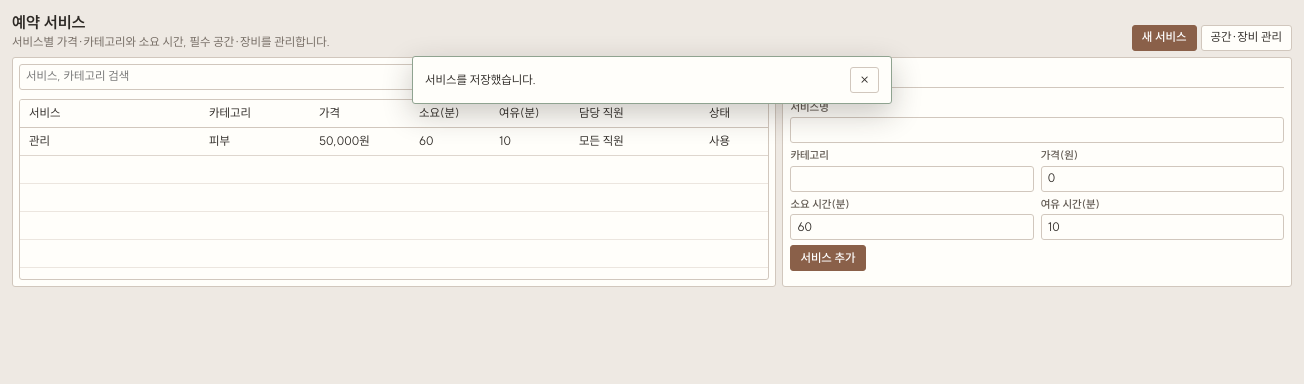
SVC-10 서비스 수정·비활성 › 잘못된 입력은 요청하지 않고 안내한다
The image size is (1304, 384).
Click the text "관리" at (110, 142), box [20, 128, 200, 156]
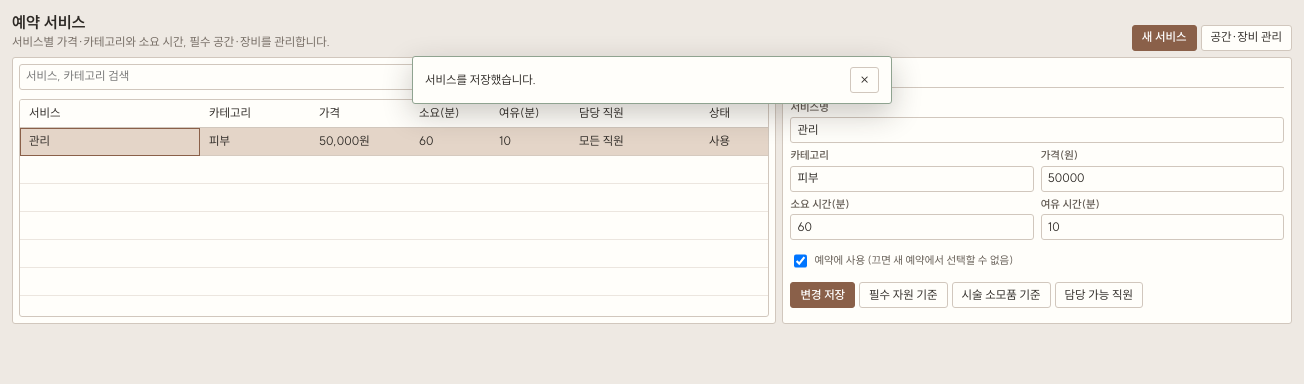
Replace the text in the field labelled "가격(원)" with "-5" at (1162, 179), box [1041, 166, 1284, 192]
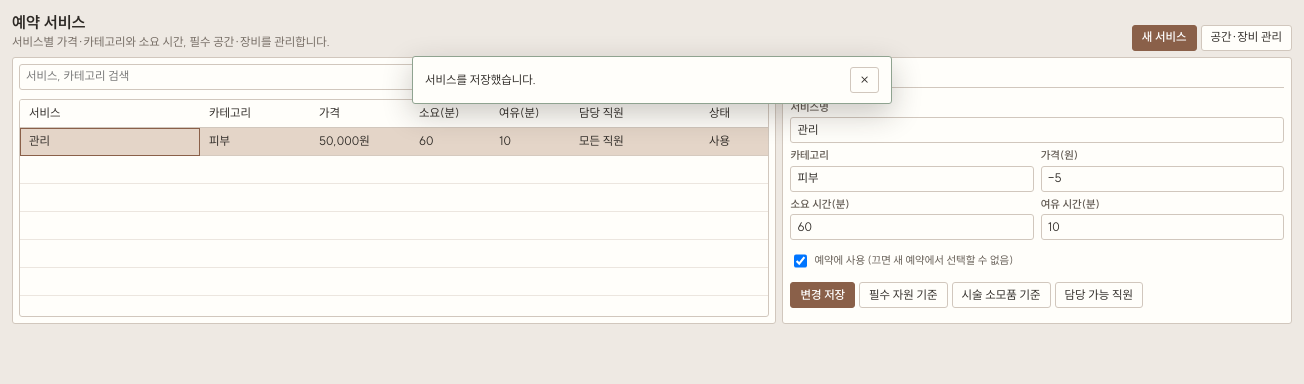
Click the button "변경 저장" at (823, 295), box [790, 282, 855, 308]
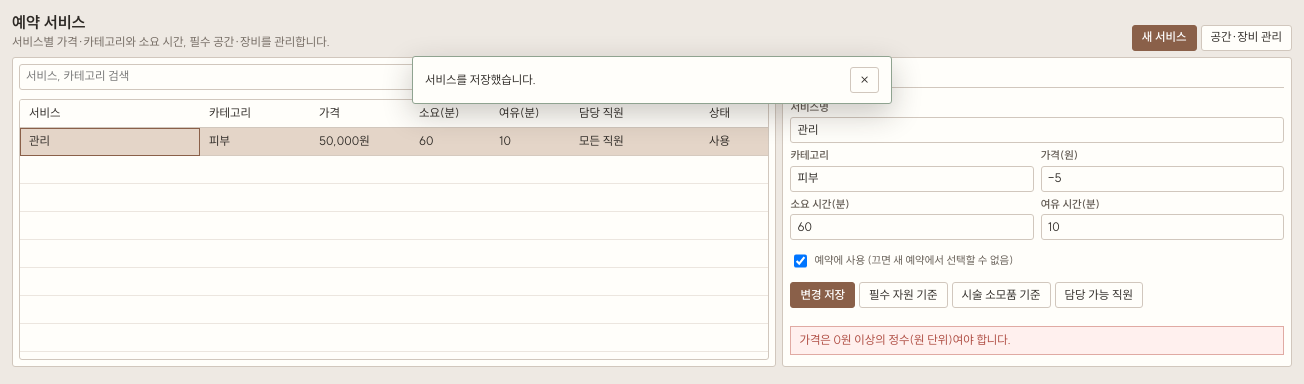
Check: the text "가격은 0원 이상의 정수(원 단위)여야 합니다." is shown, box [790, 326, 1284, 355]
